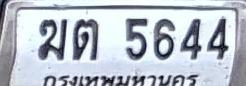4: (206, 16, 228, 60), (180, 18, 202, 60)
5: (125, 17, 148, 60)
6: (153, 18, 175, 60)
A06: (38, 18, 68, 60)
A21: (72, 18, 99, 60)
